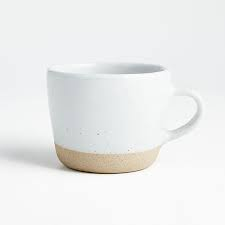cup: (43, 60, 206, 180)
